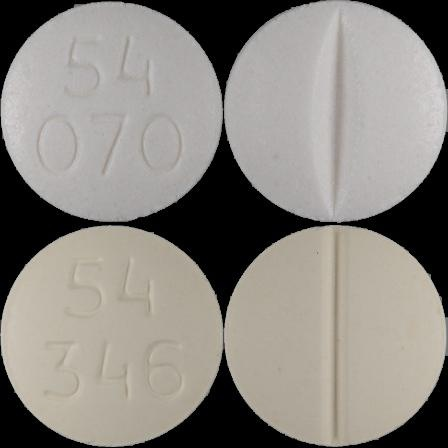69189-0011: (0, 0, 224, 224)
